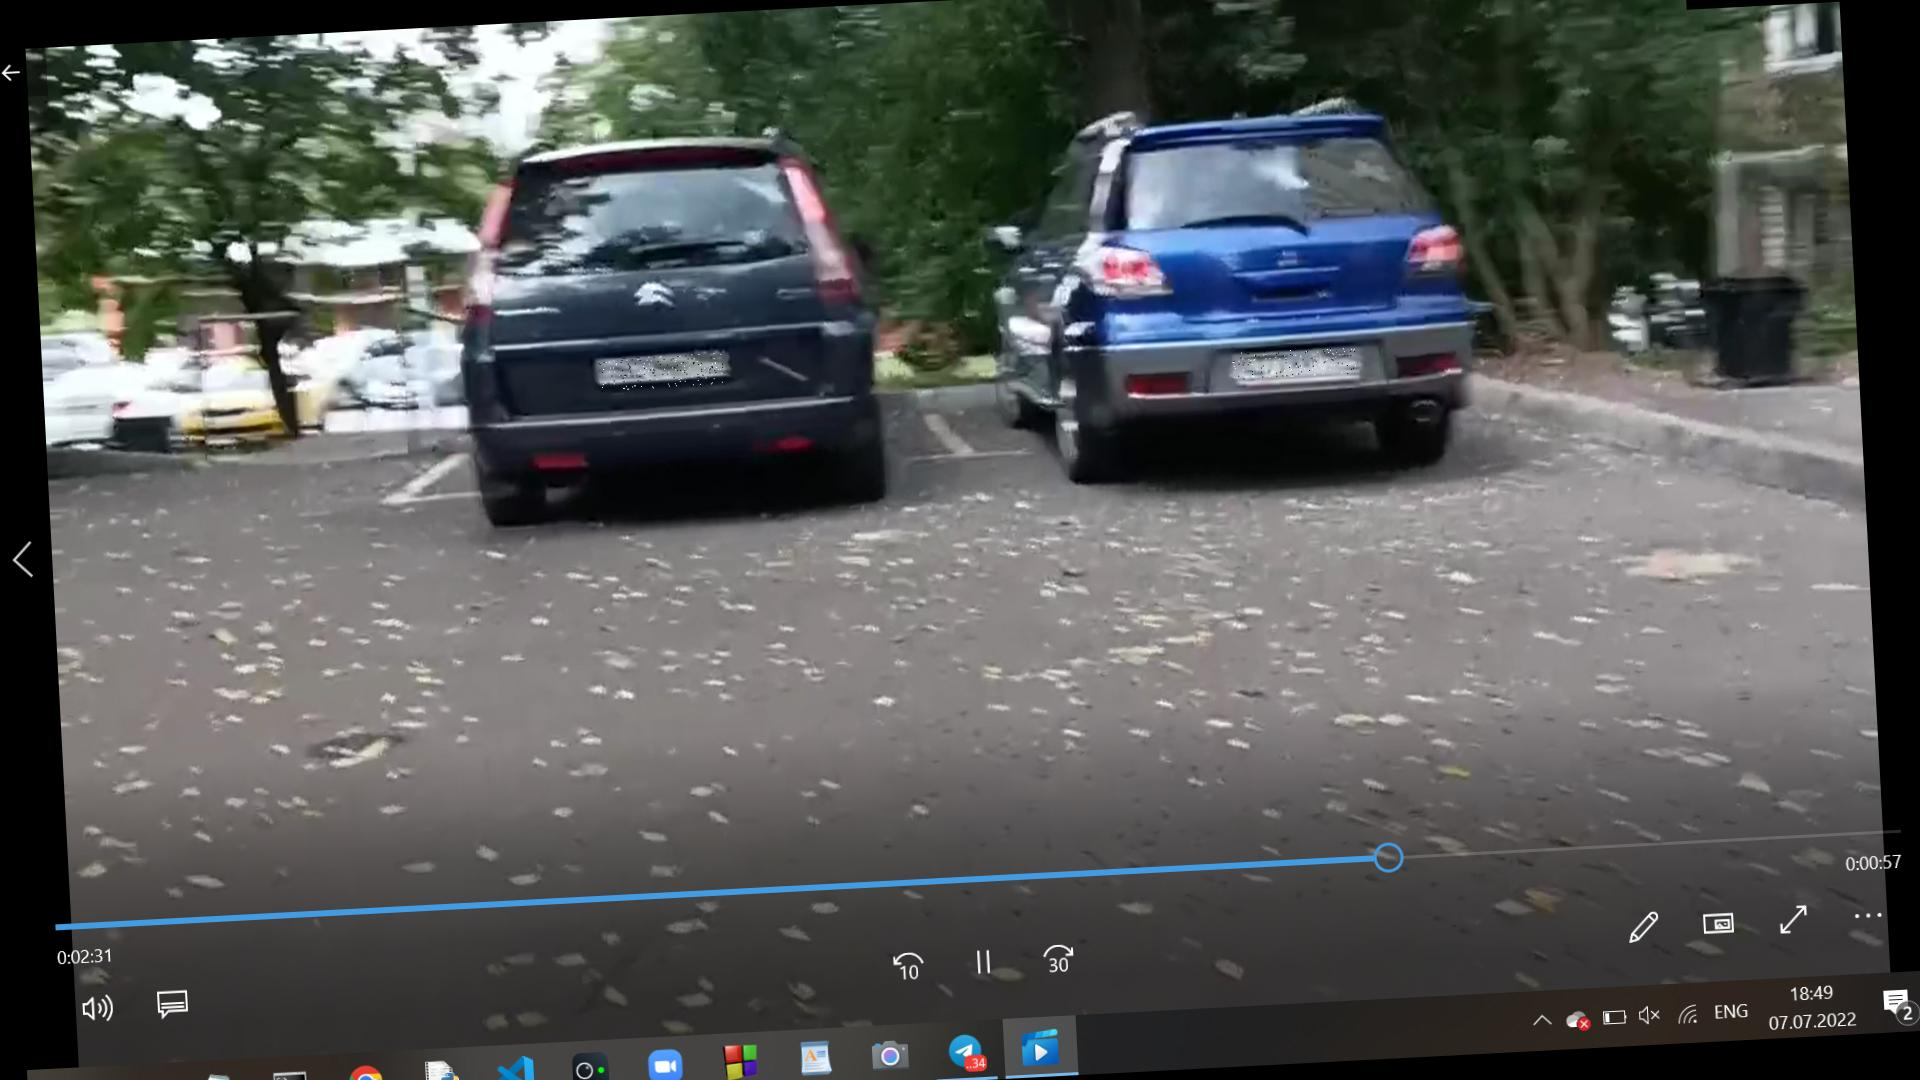plate: (600, 353, 727, 393), (1234, 348, 1358, 381)
